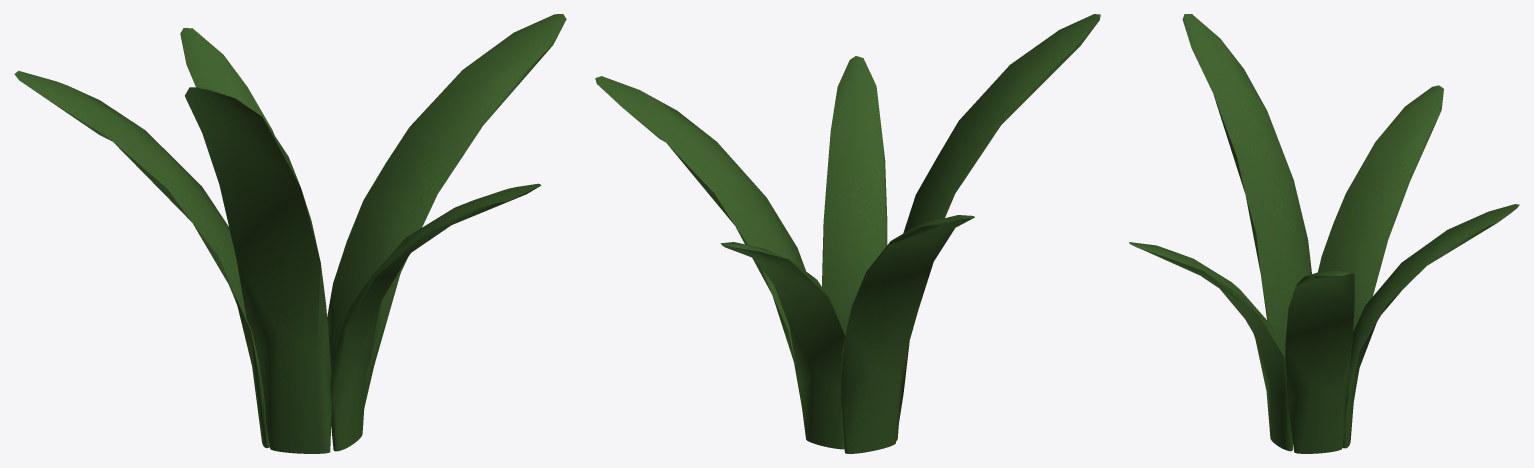
The model's file is grass3.fbx.
3 views of the same model, side by side, from view 1: azimuth 30°, elevation 25°; view 2: azimuth 150°, elevation 25°; view 3: azimuth 270°, elevation 25° (orthographic). The views are drawn at different scales.
Parts seen in each view (by area): view 1: grass3_1; view 2: grass3_1; view 3: grass3_1.
Boxes of the visible parts, <box> form: grass3_1: <box>14,14,566,453</box>; grass3_1: <box>595,14,1100,453</box>; grass3_1: <box>1129,14,1519,453</box>.
Bounding box in the file's own units: 470 × 423 × 425.
1 material, 1 textured.
